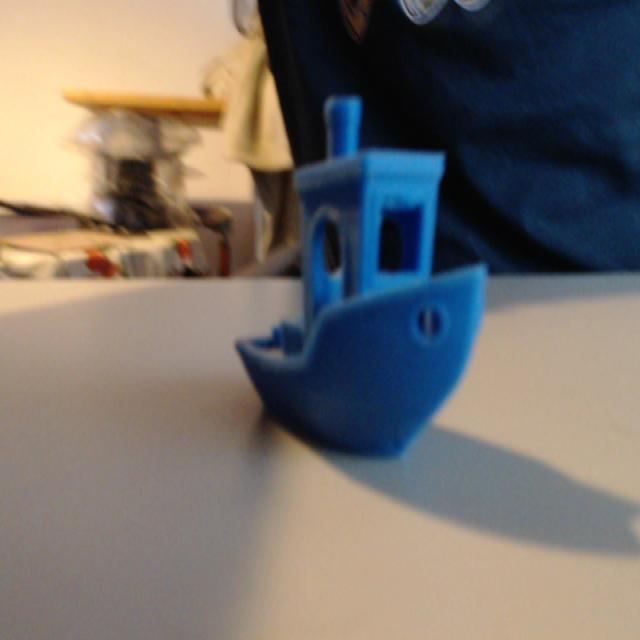benchy: (232, 91, 489, 461)
